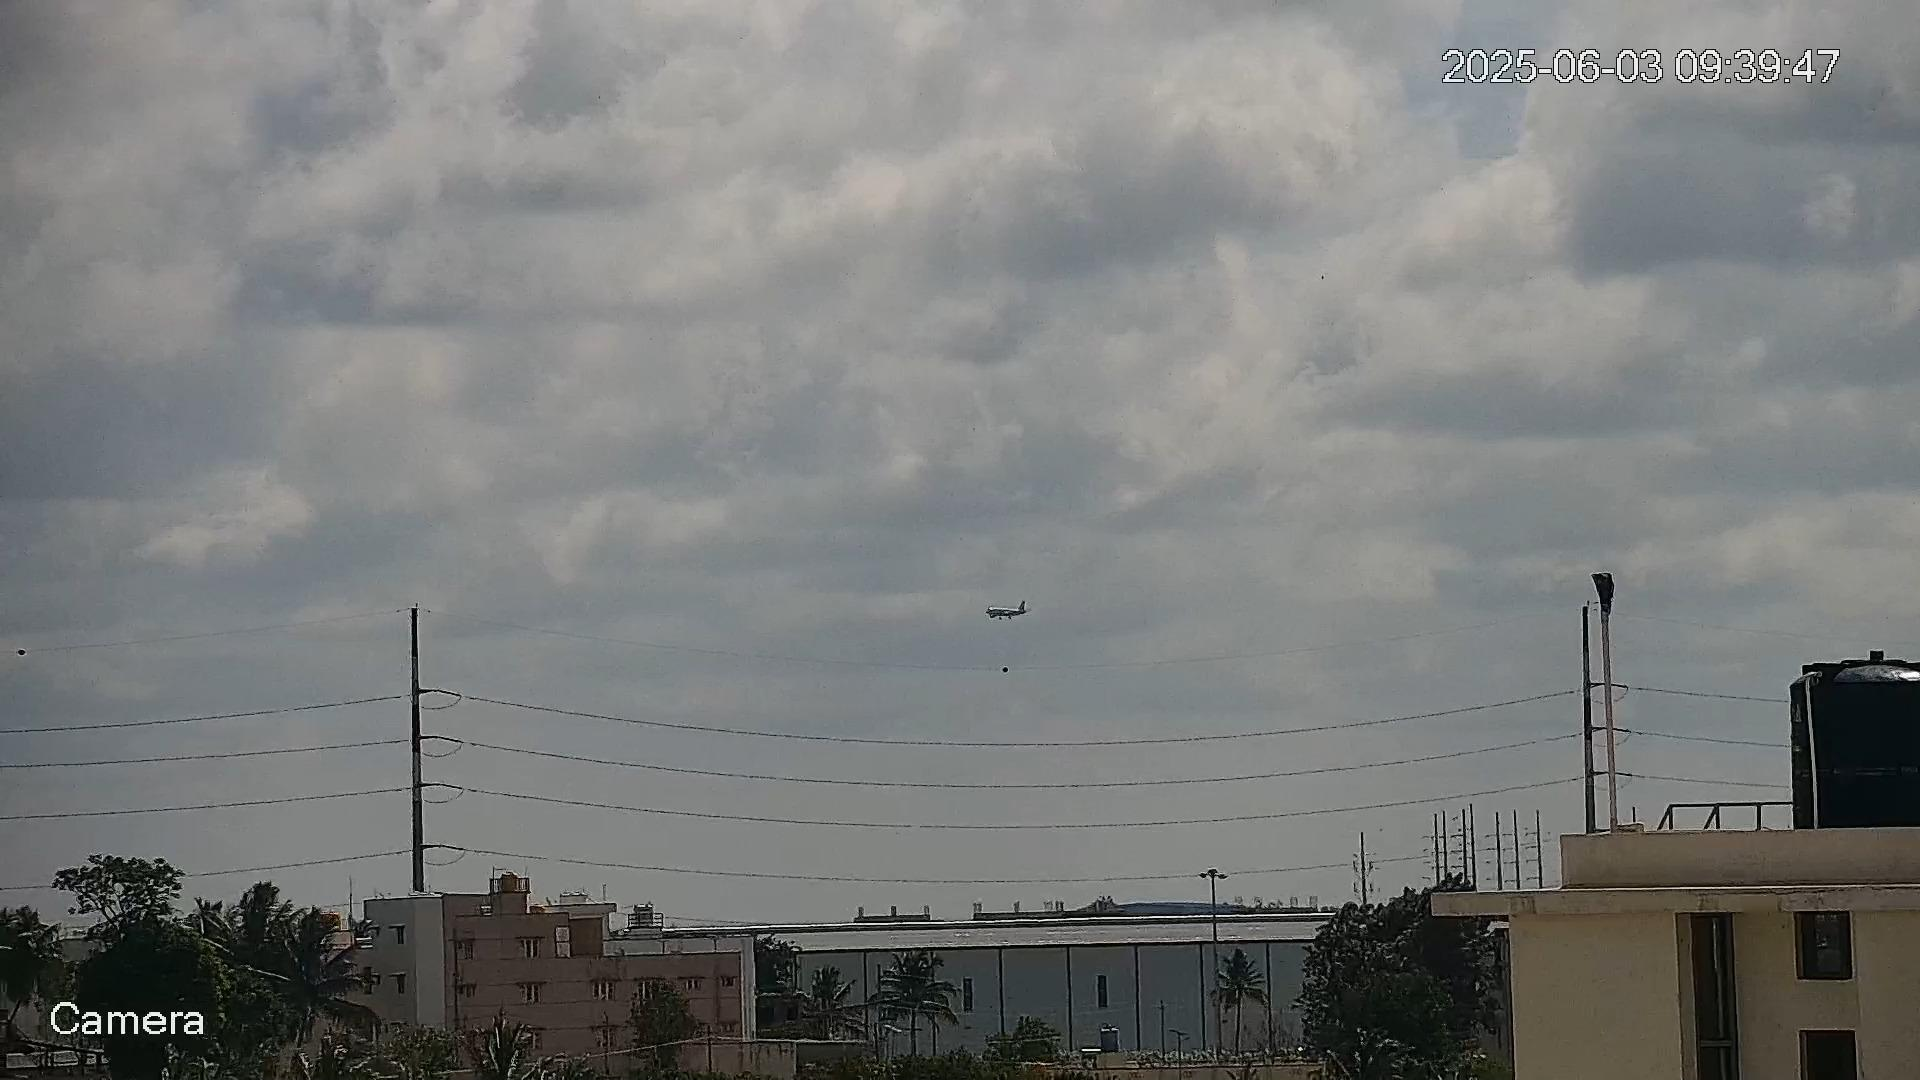Aircraft: (982, 596, 1031, 621)
